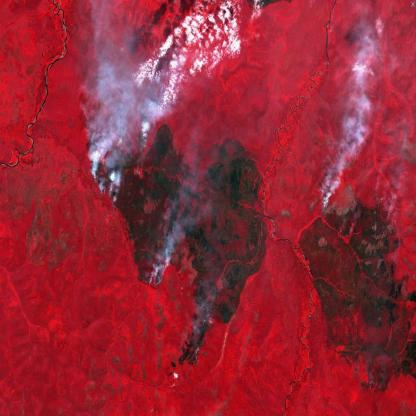fire: (87, 127, 149, 198), (314, 191, 336, 217)
